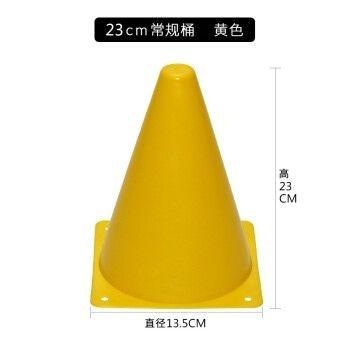cone_barrel: (82, 63, 265, 307)
